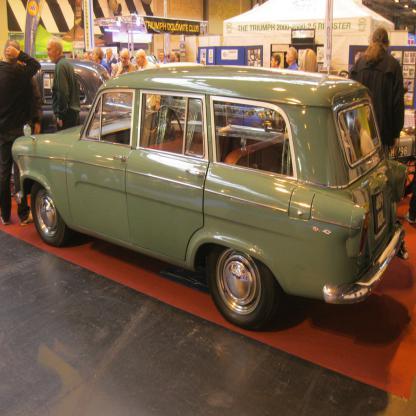Car: (12, 65, 409, 331), (37, 57, 109, 135), (390, 130, 415, 168)
